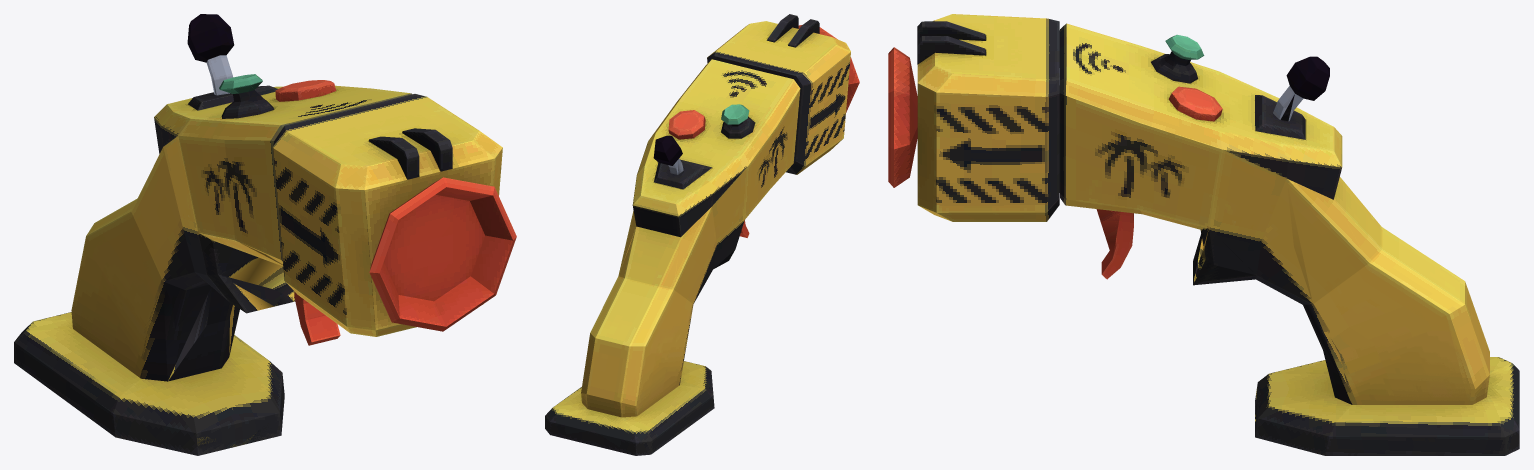
File: item_remote_controller.glb
3 views of the same model, side by side, from view 1: azimuth 30°, elevation 25°; view 2: azimuth 150°, elevation 25°; view 3: azimuth 270°, elevation 25° (orthographic). The views are drawn at different scales.
Visible parts, largest first — view 1: Controller, Receiver; view 2: Controller, Receiver; view 3: Controller, Receiver.
Boxes of the visible parts, x1,y1,x2,y2 form: Controller: (14,14,411,455); Receiver: (272,94,516,336); Controller: (545,59,800,455); Receiver: (707,14,859,174); Controller: (1059,23,1519,455); Receiver: (888,14,1059,221).
Size of the model in its own units: 0.0752 by 0.1856 by 0.2739.
1 material, 1 textured.
